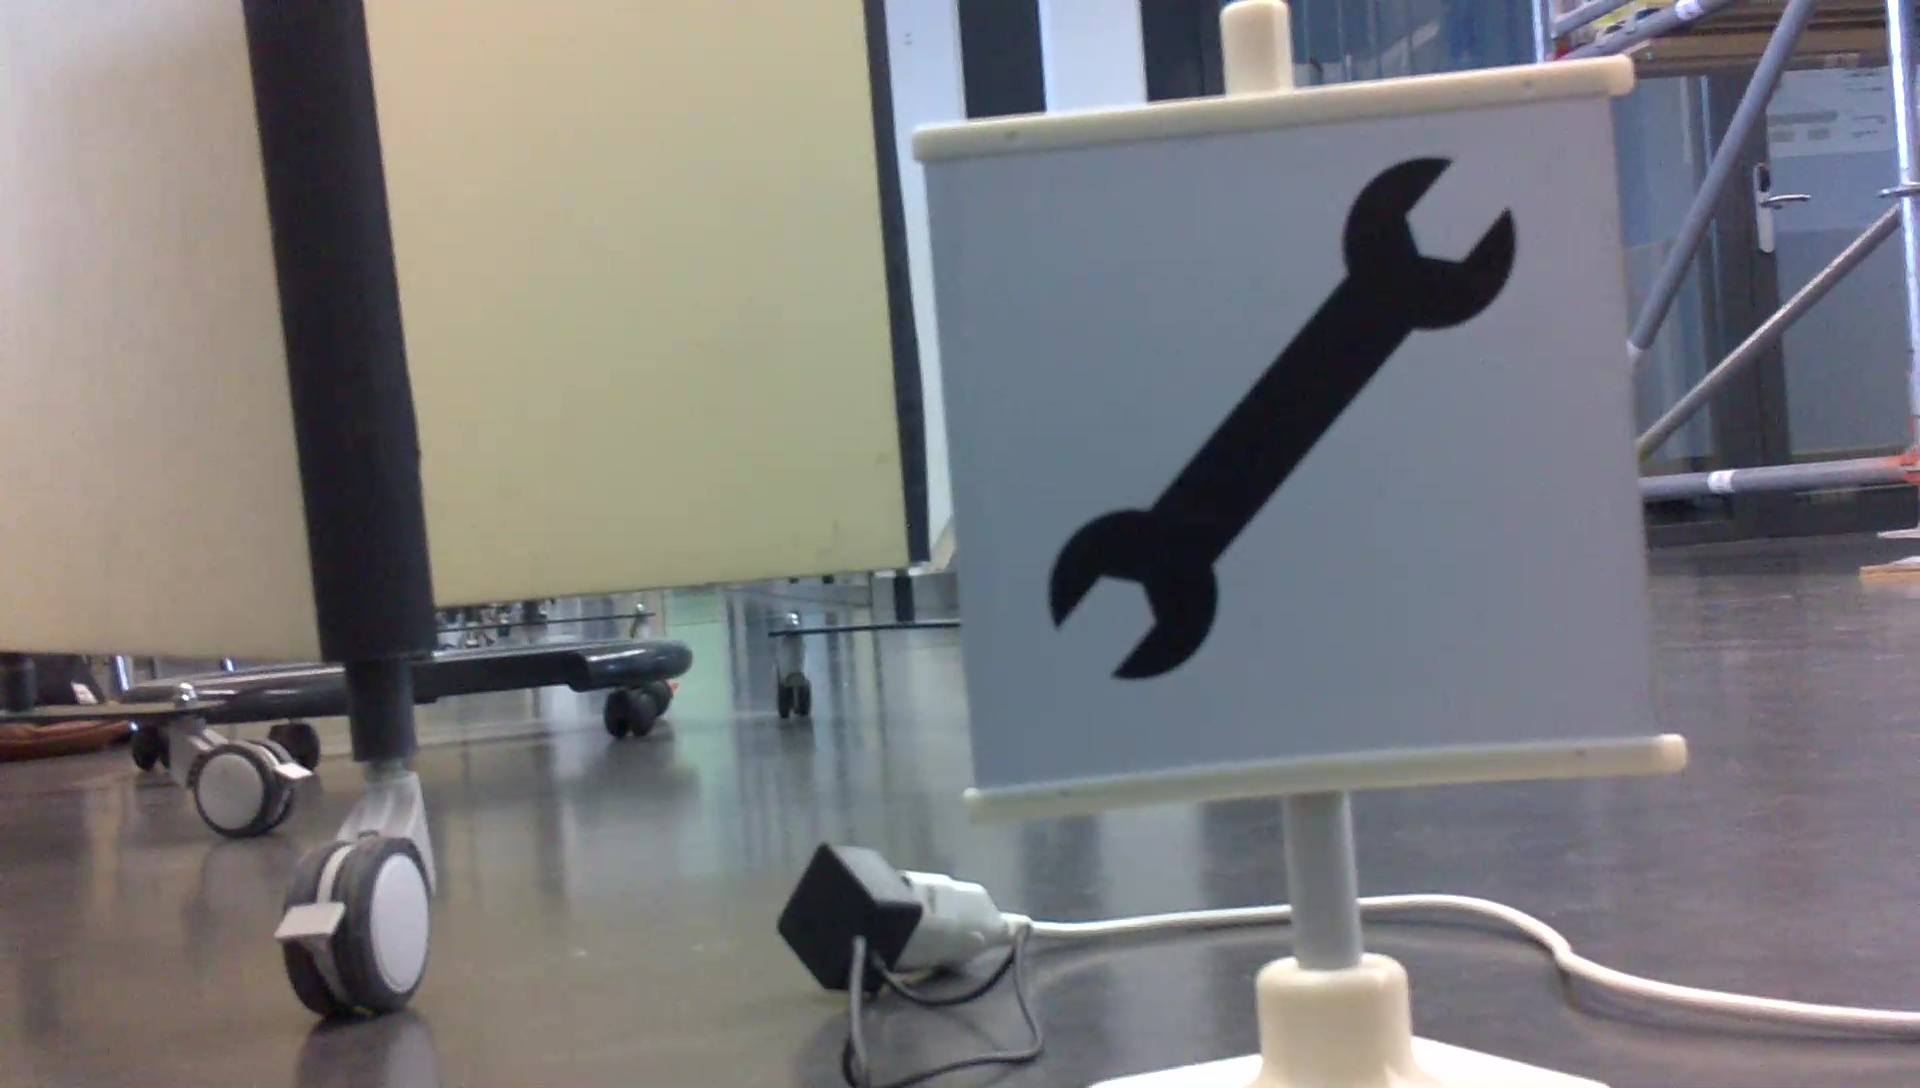wrench: (1043, 148, 1528, 694)
